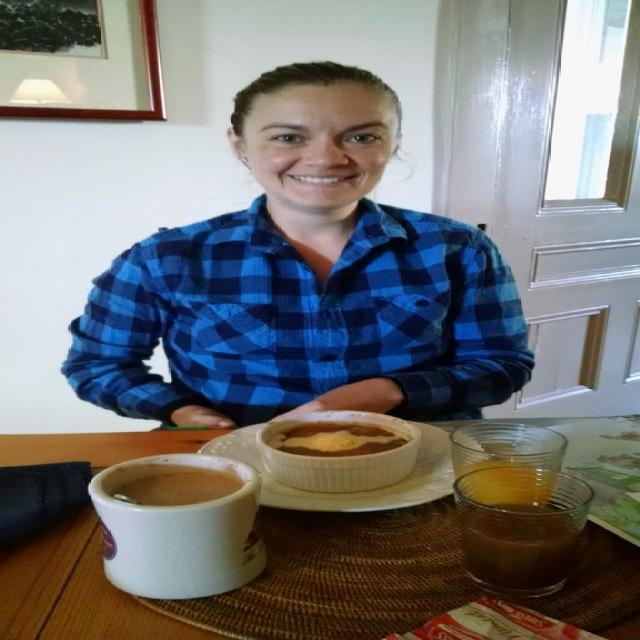Coffee: (86, 447, 276, 595)
Tea: (116, 473, 241, 504)
